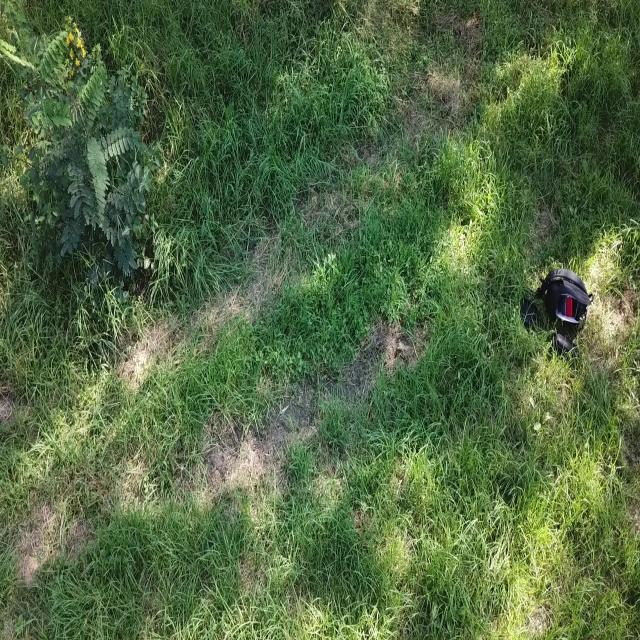Mysore-Thorn-Weed: (0, 24, 153, 295)
